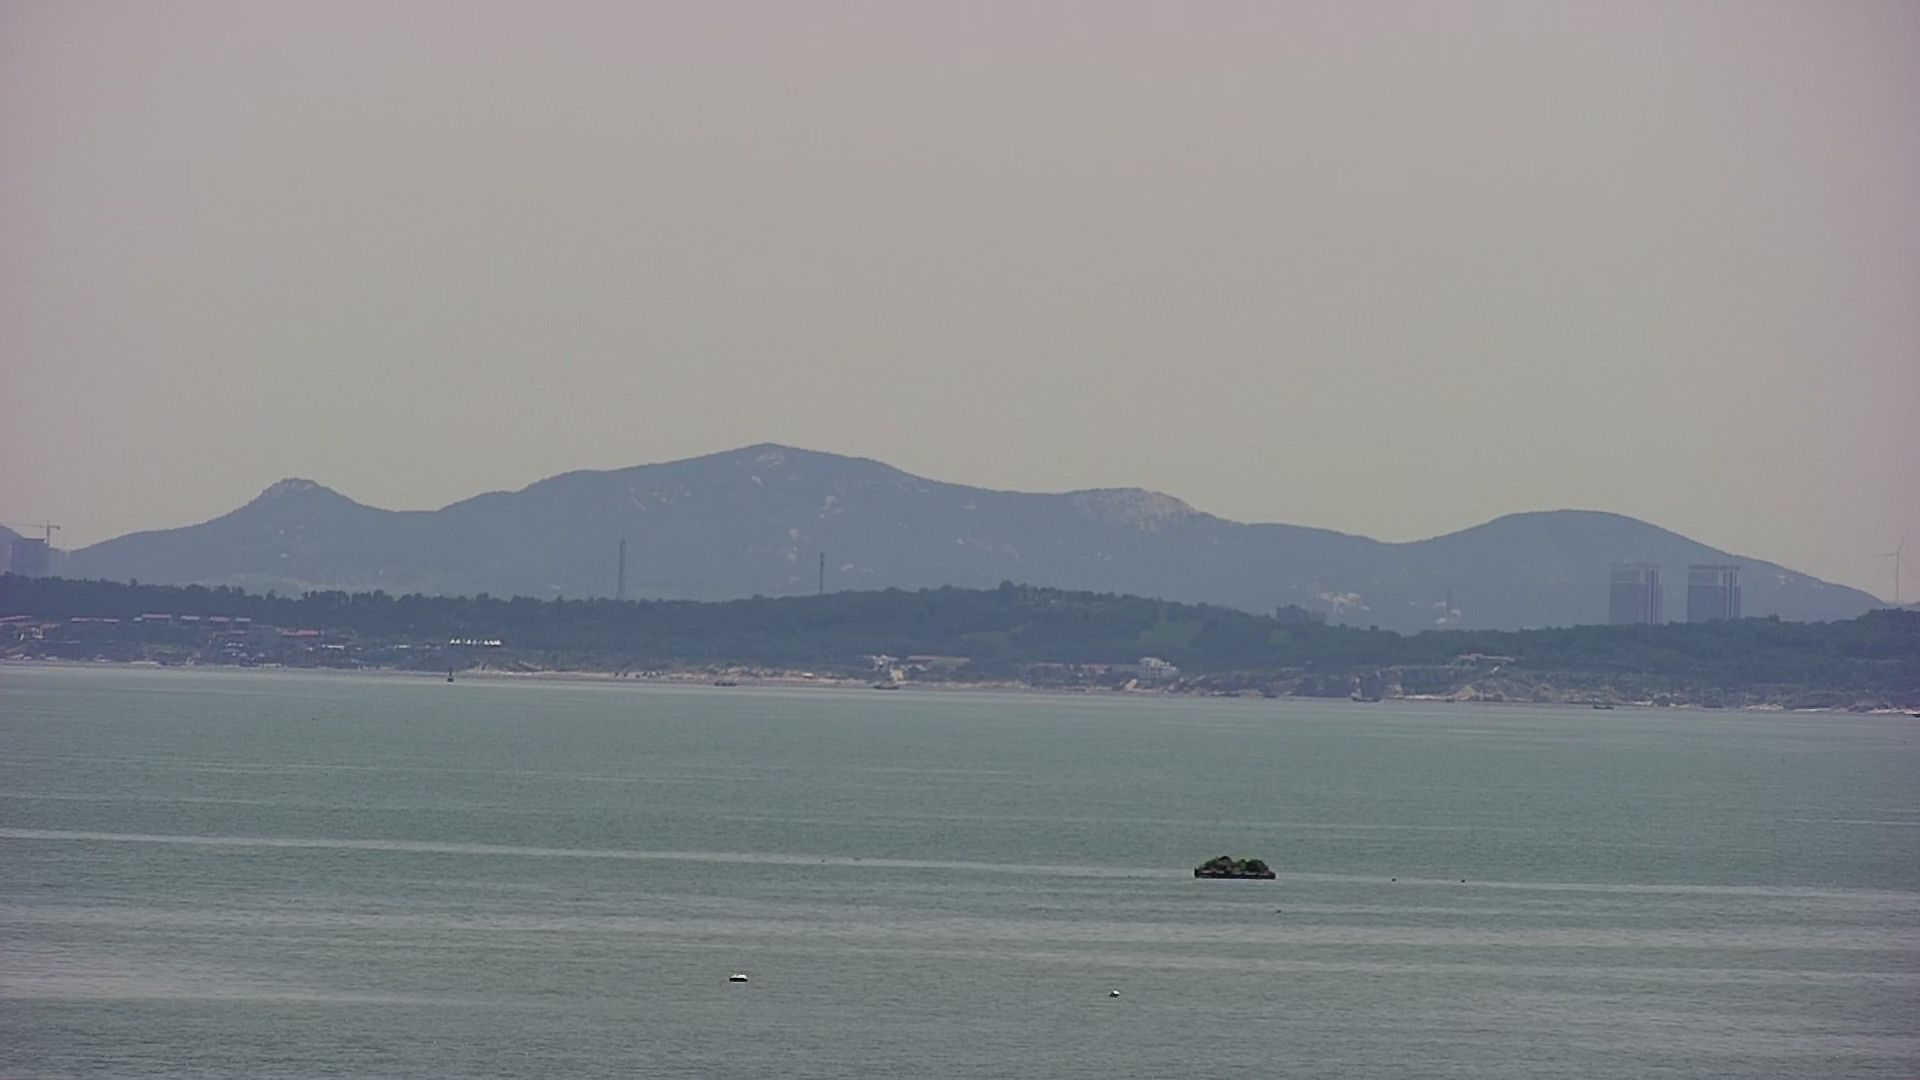rubbish: (1191, 851, 1280, 880)
